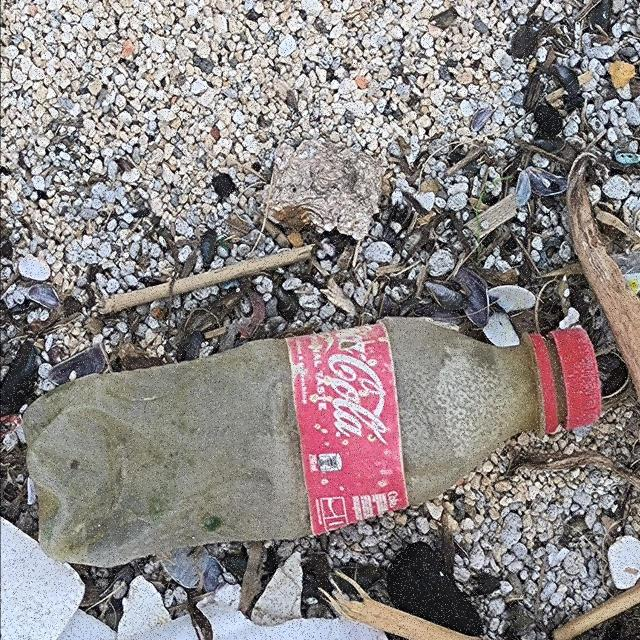plastic_waste: (21, 315, 606, 572)
styrofoam_waste: (1, 516, 87, 640)
